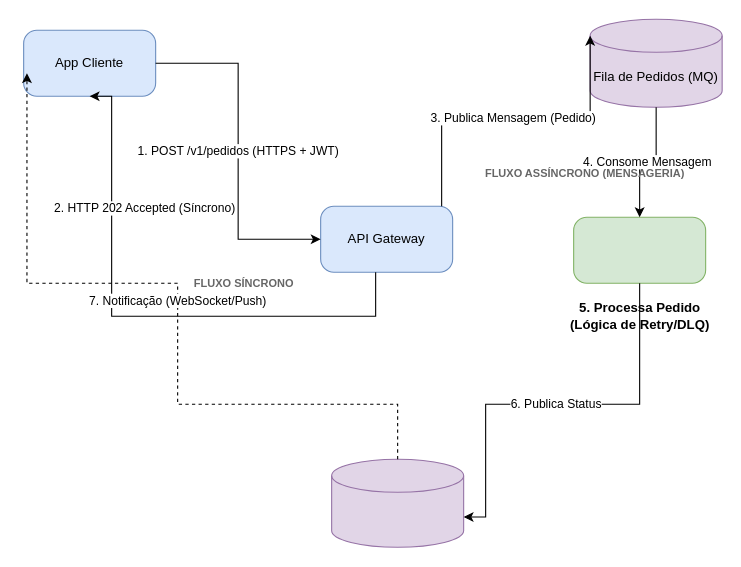
This 741x567 diagram has some shape labels left out. Here are the shapes that lost their labels. From the top down, the box of each, then its label:
(573, 216, 706, 283): Serviço da Cozinha
(331, 458, 464, 547): Fila de Status (MQ)
